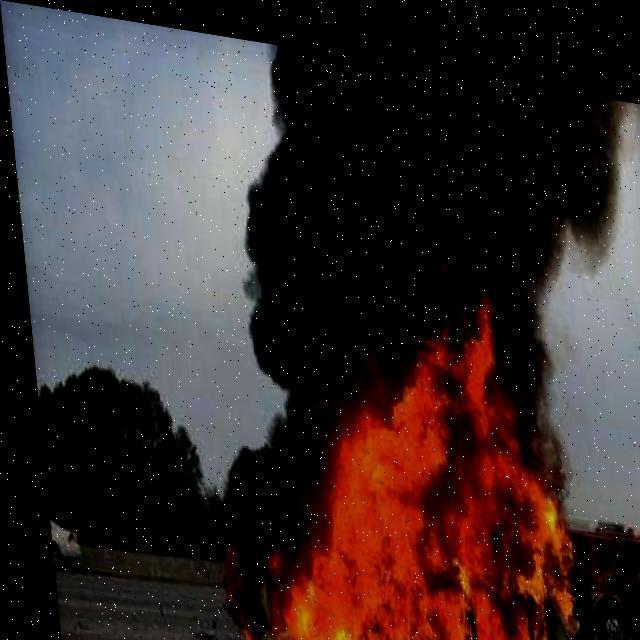Fire: (209, 226, 589, 639)
